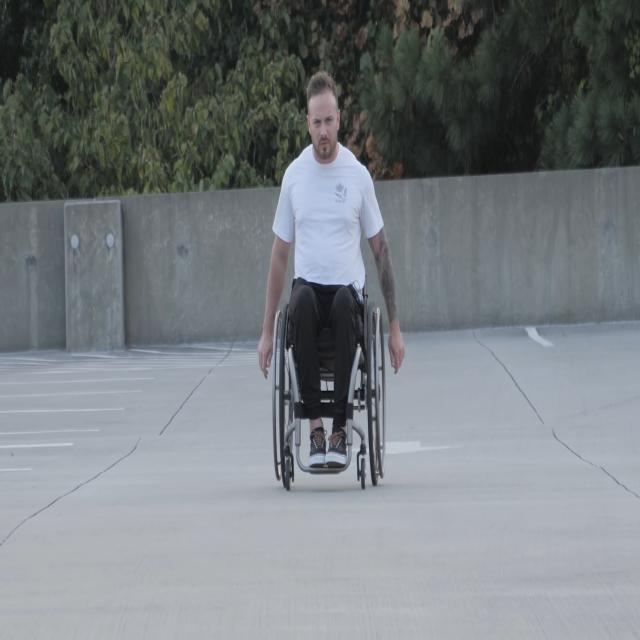wheelchairs: (269, 242, 387, 496)
